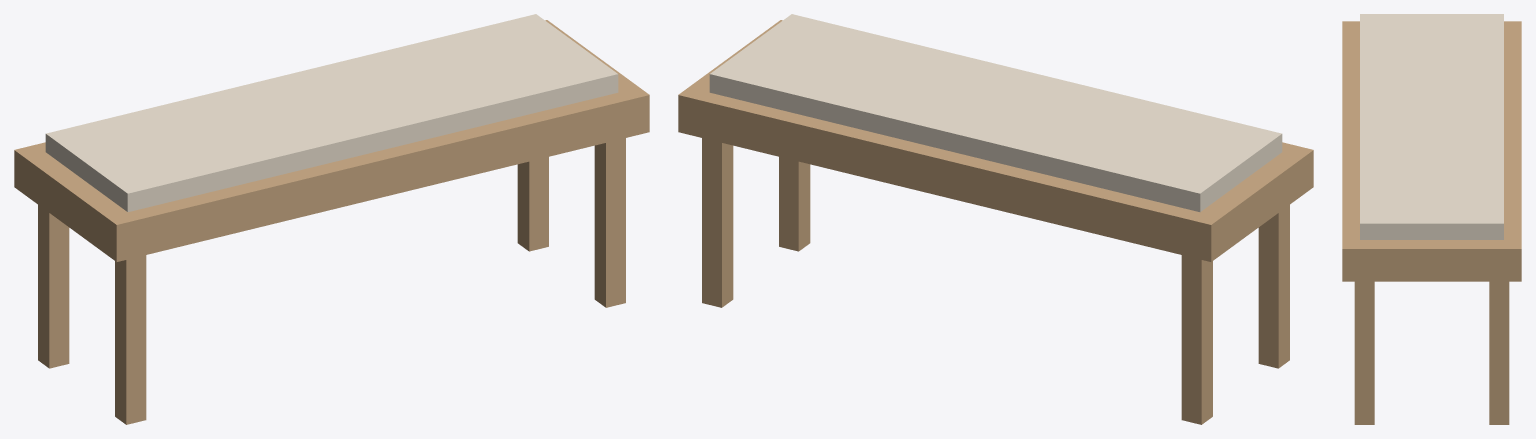
The model's file is mocan-49.glb.
The picture shows the model from 3 angles, left to right: view 1: azimuth 30°, elevation 25°; view 2: azimuth 150°, elevation 25°; view 3: azimuth 270°, elevation 25°; orthographic projection. The views are drawn at different scales.
Visible parts, largest first — view 1: furniture; view 2: furniture; view 3: furniture.
Boxes of the visible parts, box(x1,y1,x2,y2) form: furniture: box(14, 14, 649, 424); furniture: box(678, 14, 1313, 424); furniture: box(1342, 14, 1521, 424).
Bounding box in the file's own units: 1.2 × 0.49 × 0.4.
